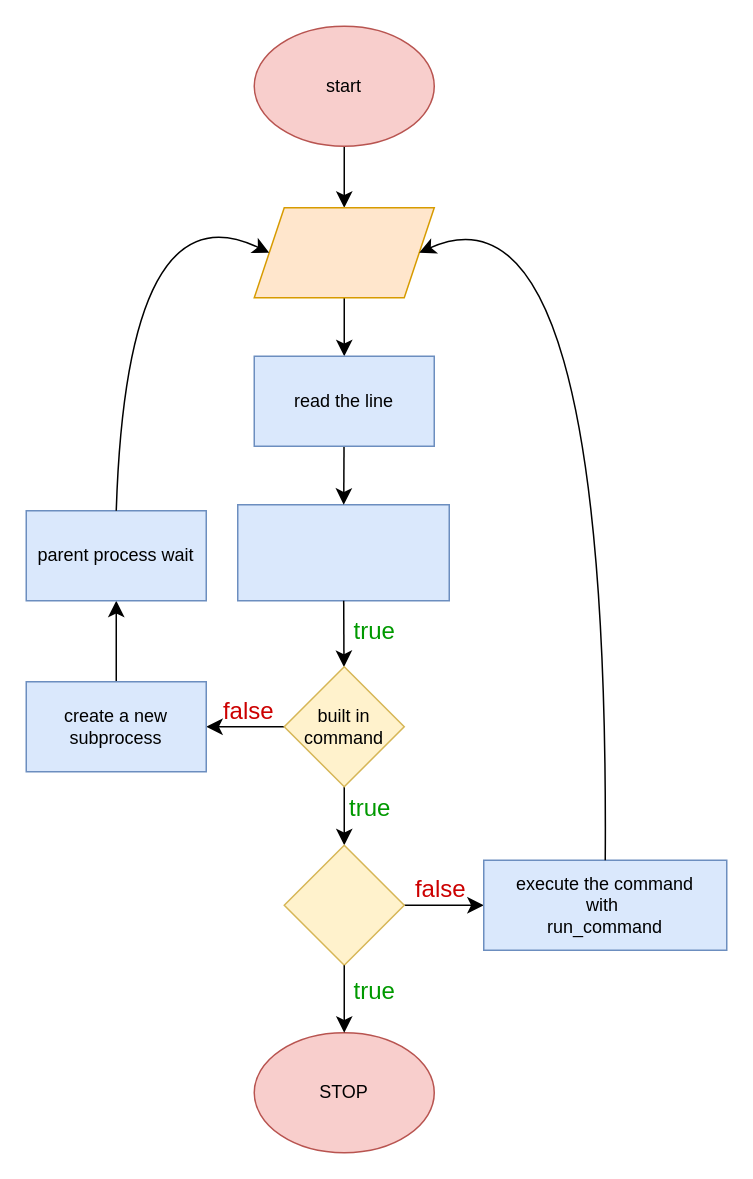
The diagram is 753 pixels wide and 1179 high, and some of its shapes have lost their labels. The centre of each missing label's shape, as x and y in pixels:
"command is exit" goes at point (343, 904).
"input a command" goes at point (343, 252).
"search a command with find_command" goes at point (342, 552).
